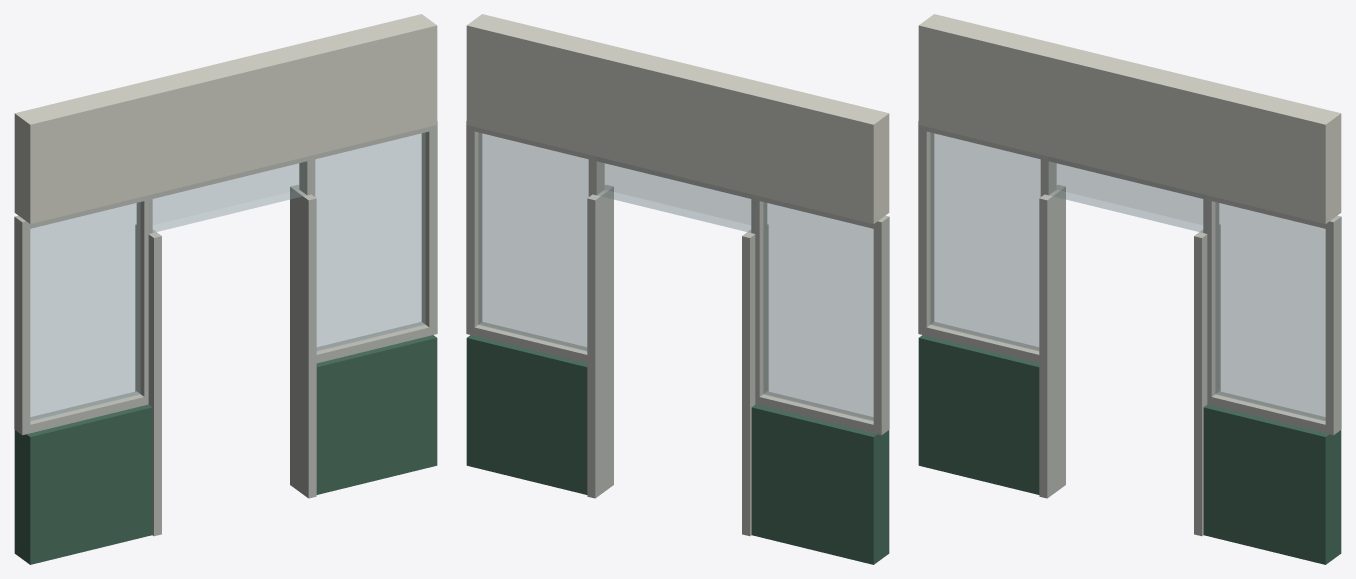
The model's file is hosp_wall_glass_door.glb.
3 views of the same model, side by side, from view 1: azimuth 30°, elevation 25°; view 2: azimuth 150°, elevation 25°; view 3: azimuth 330°, elevation 25° (orthographic).
Visible parts, largest first — view 1: hosp_wall_glass_door-col; view 2: hosp_wall_glass_door-col; view 3: hosp_wall_glass_door-col.
Part boxes in pixels (<box>): hosp_wall_glass_door-col: <box>14,14,437,564</box>; hosp_wall_glass_door-col: <box>466,14,889,564</box>; hosp_wall_glass_door-col: <box>918,14,1341,564</box>.
Size of the model in its own units: 3.06 by 3.1 by 0.24.
